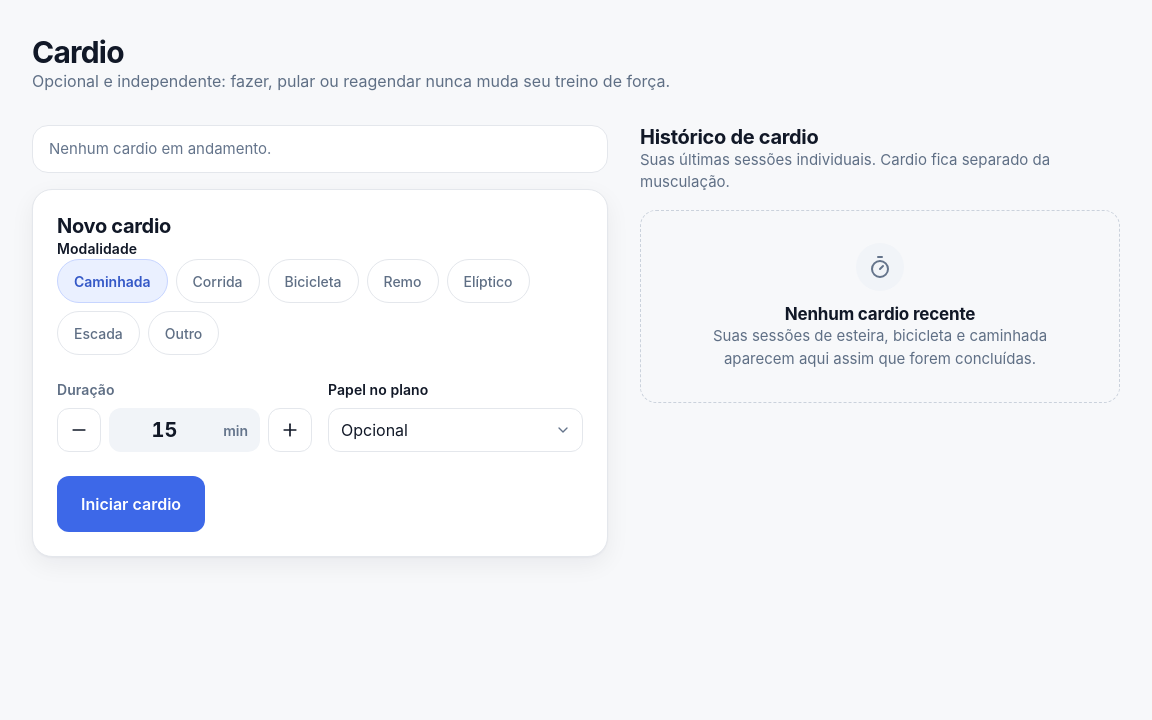
CardioPageClient › requires a reason to skip and keeps the strength session untouched
Click the button "Iniciar cardio" at (131, 504), box x1=57 y1=476 x2=205 y2=532
(page scrolled)
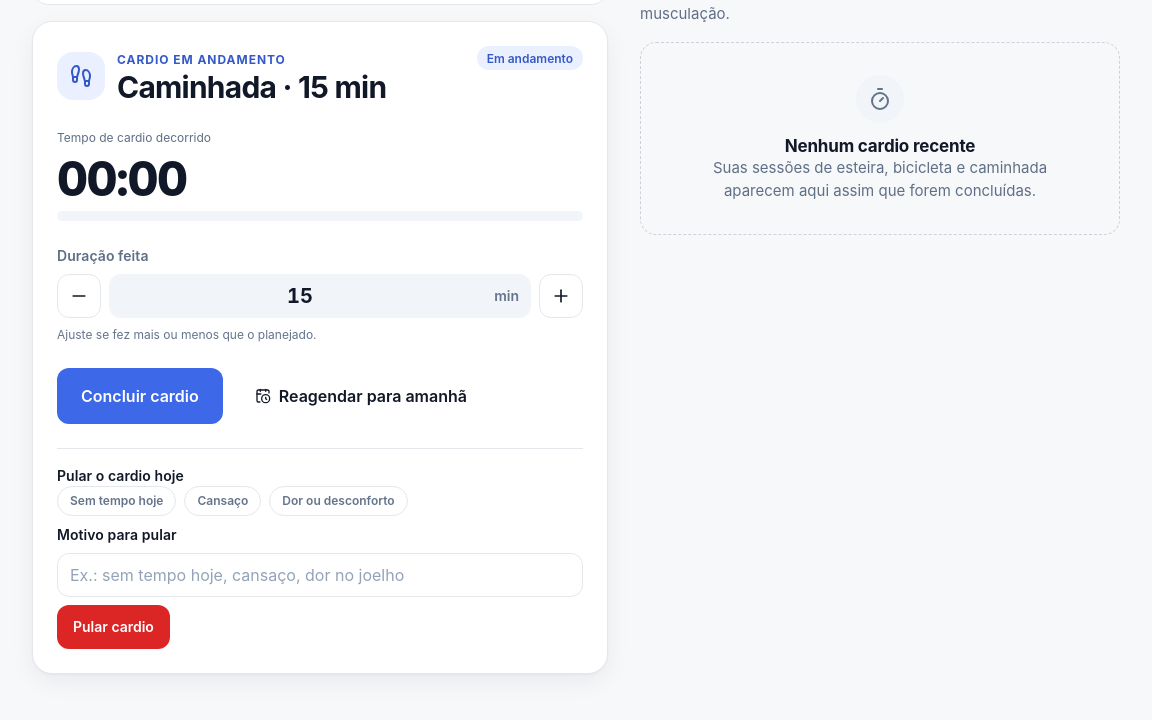
Expected: the button "Pular cardio" is shown
Click the button "Pular cardio" at (113, 627), box x1=57 y1=605 x2=170 y2=649
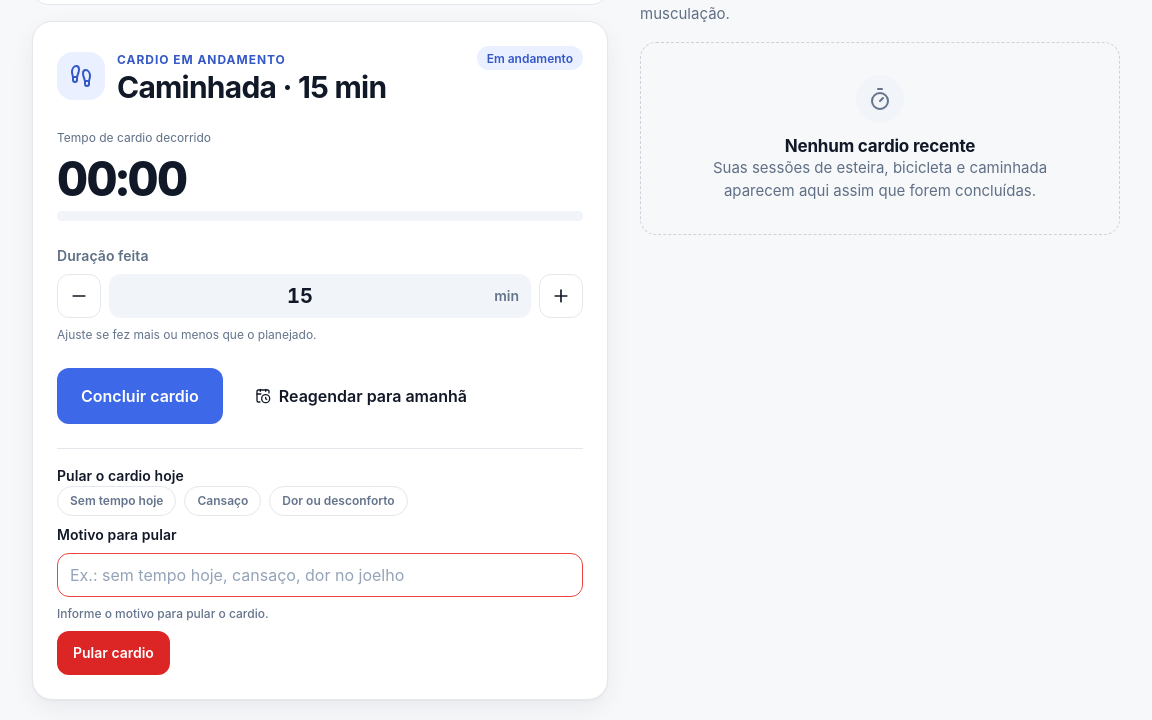
Expected: the text "Informe o motivo para pular o cardio." is shown, x1=57 y1=606 x2=269 y2=621
Type "Dor no joelho" into the field labelled "Motivo para pular" at (320, 575), box x1=57 y1=553 x2=583 y2=597
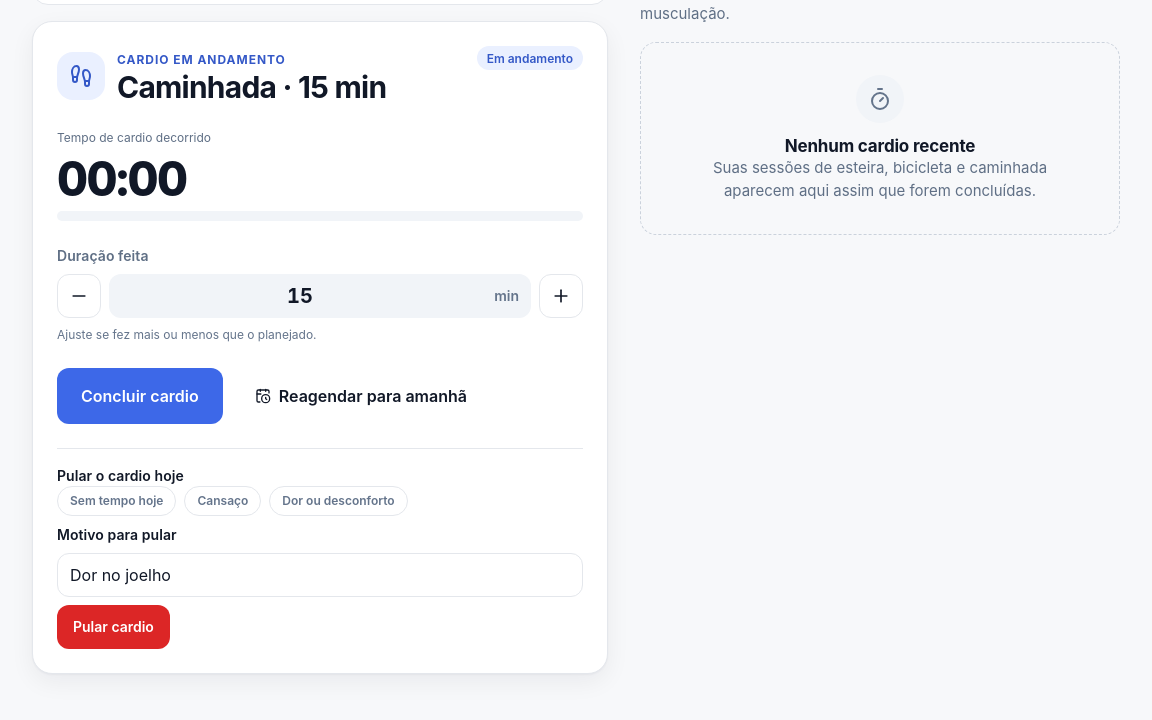
Click the button "Pular cardio" at (113, 627), box x1=57 y1=605 x2=170 y2=649
(page scrolled)
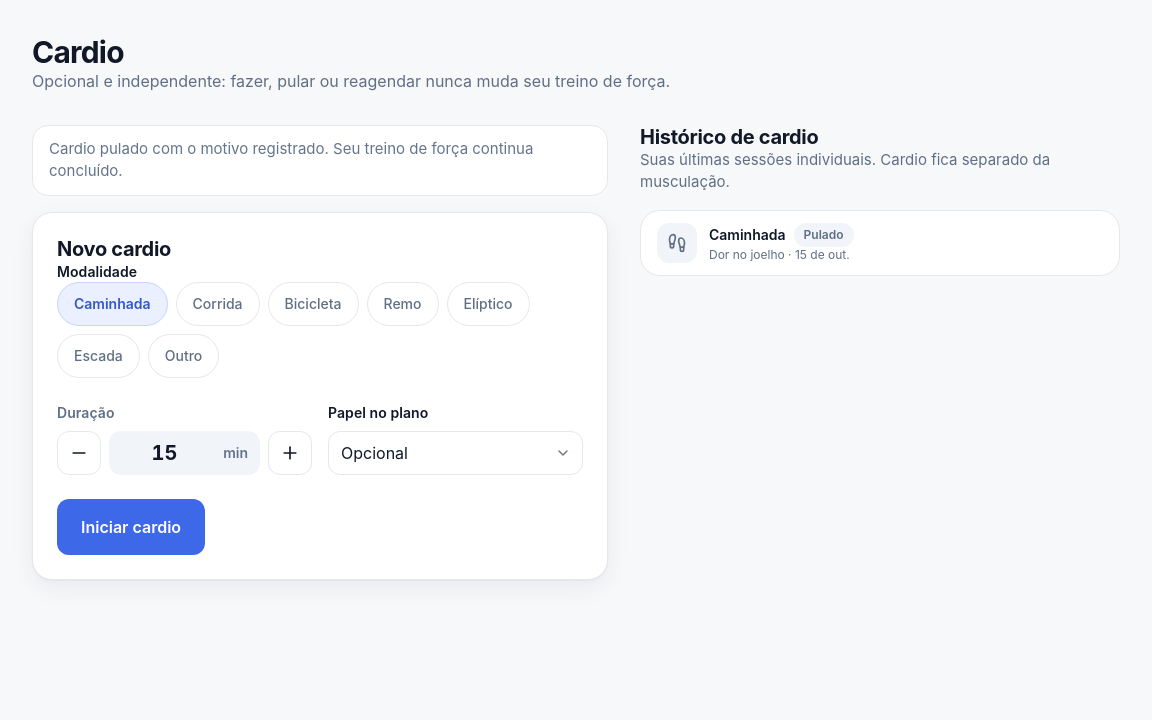
Expected: the text "Cardio pulado com o motivo registrado. Seu treino de força continua concluído." is shown, x1=32 y1=125 x2=608 y2=196
